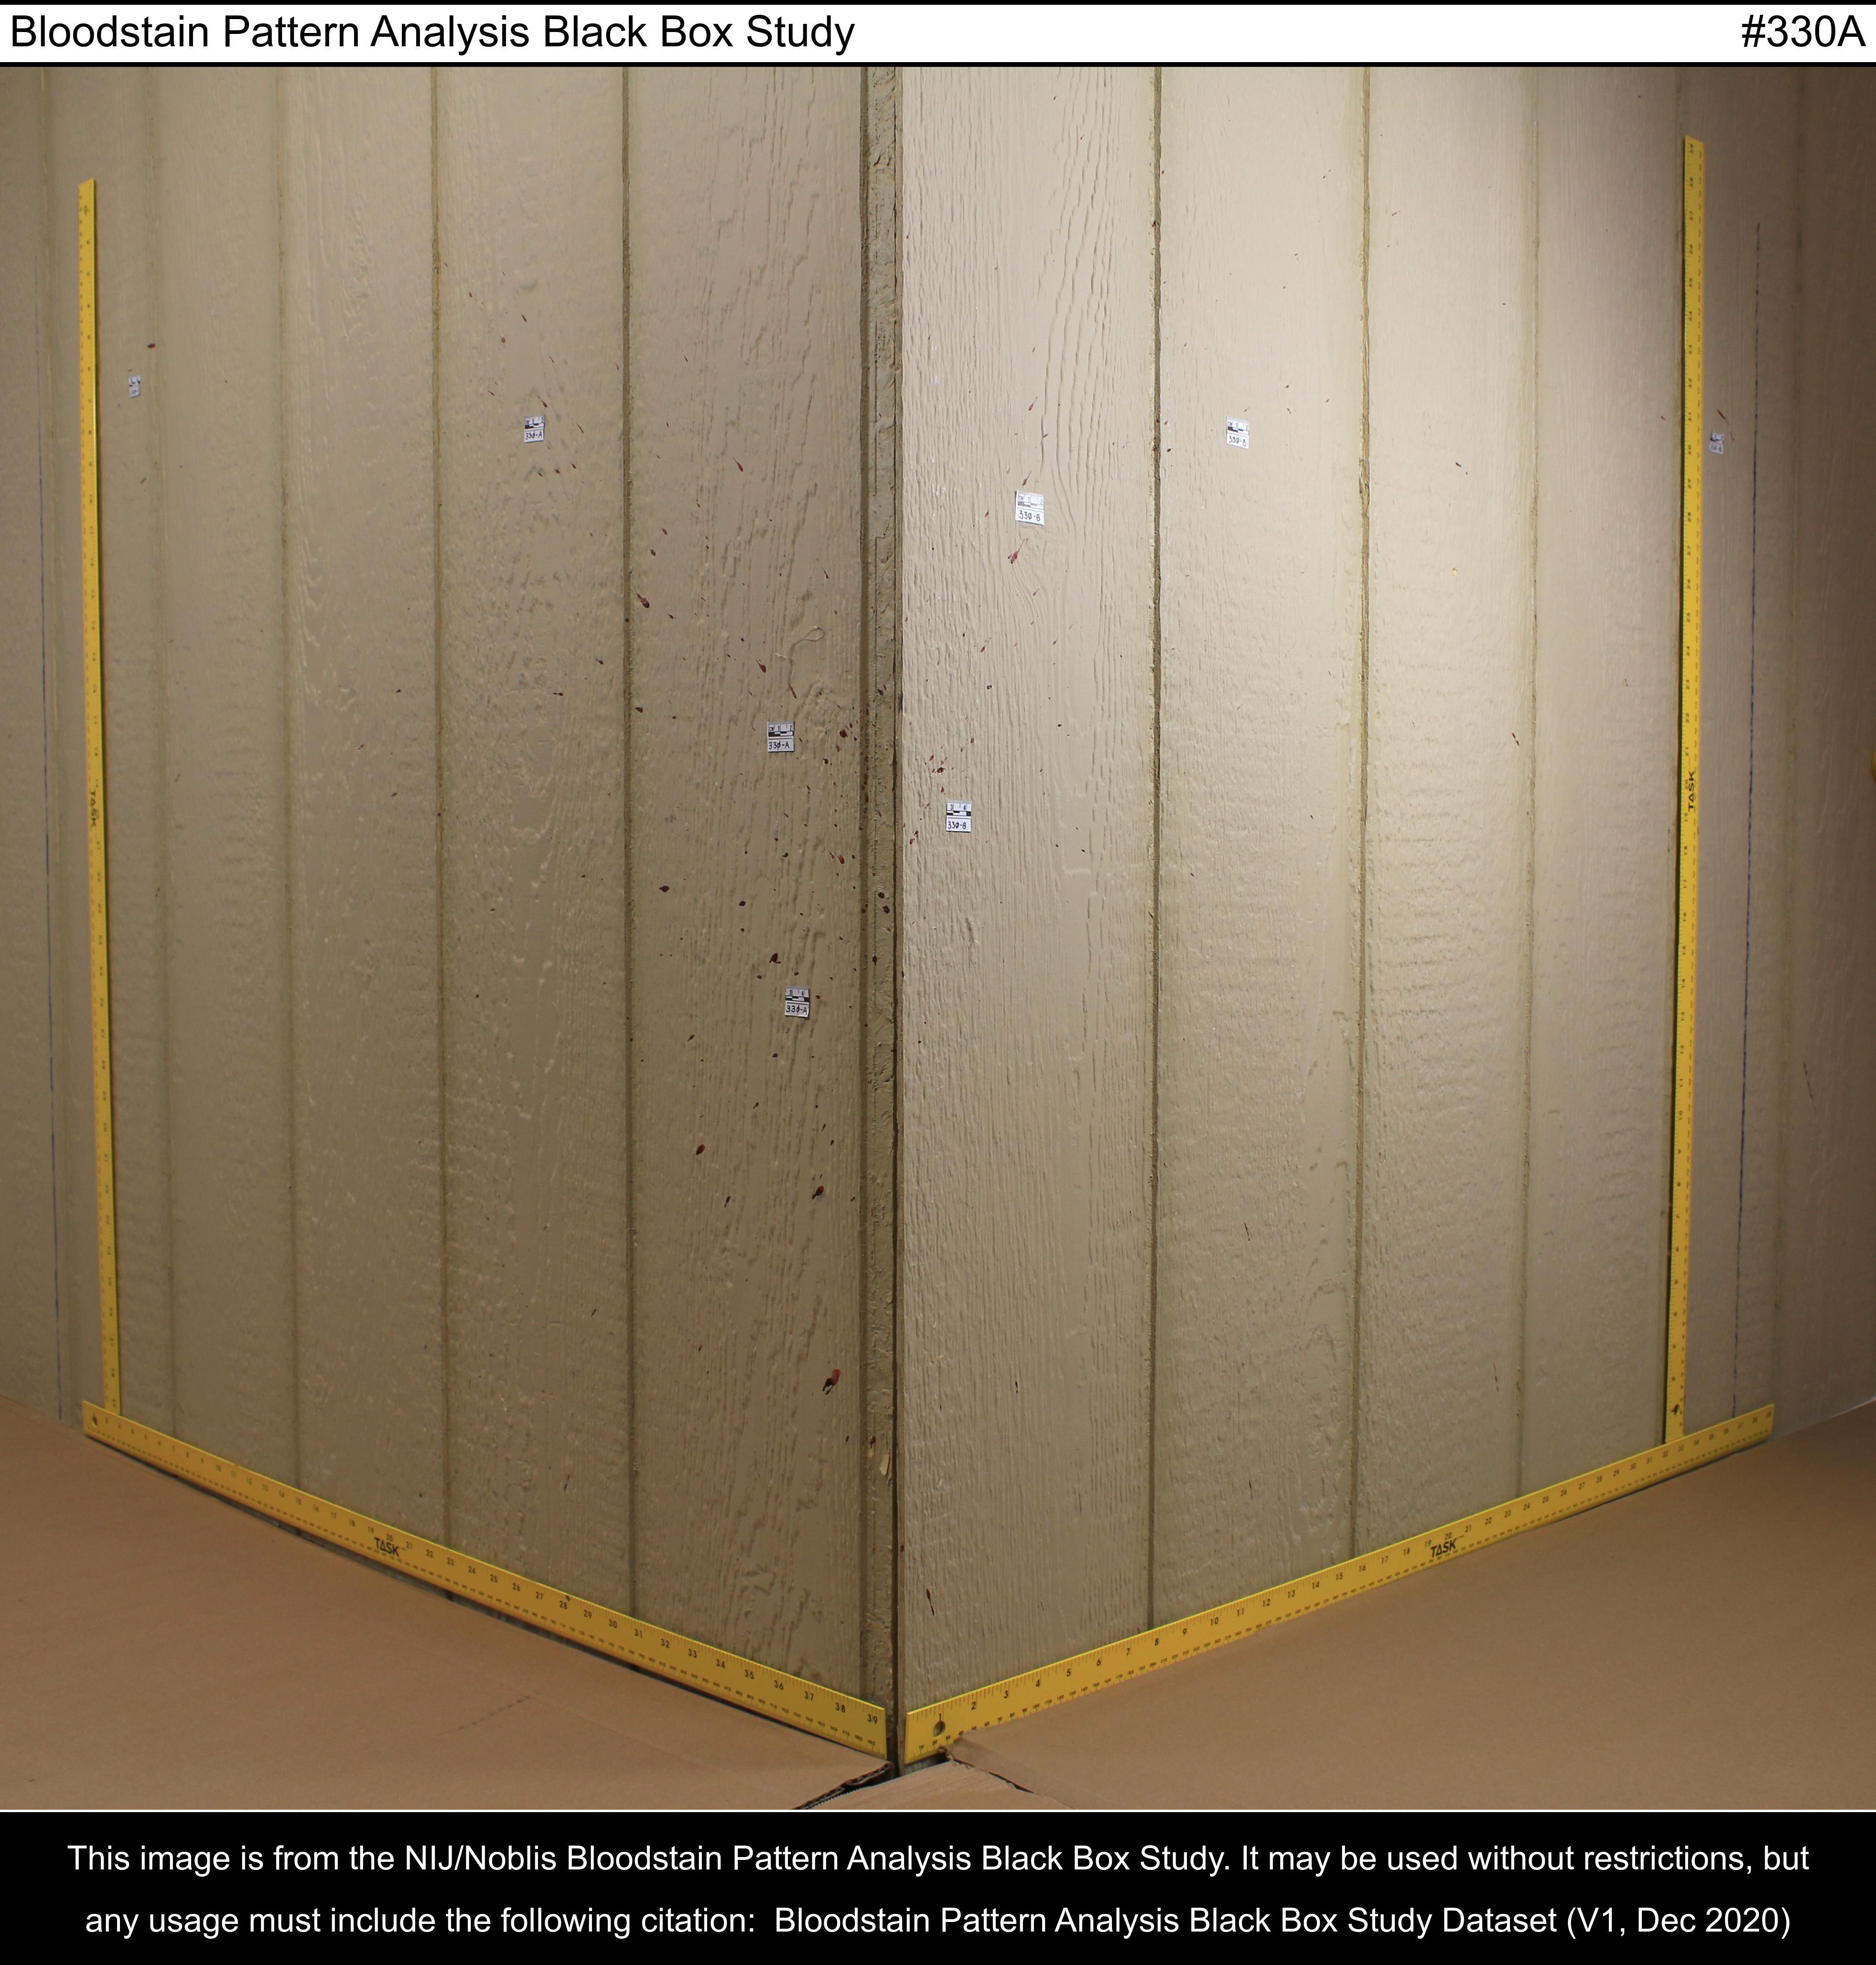Impact: (649, 333, 890, 1405), (913, 516, 1016, 951)
